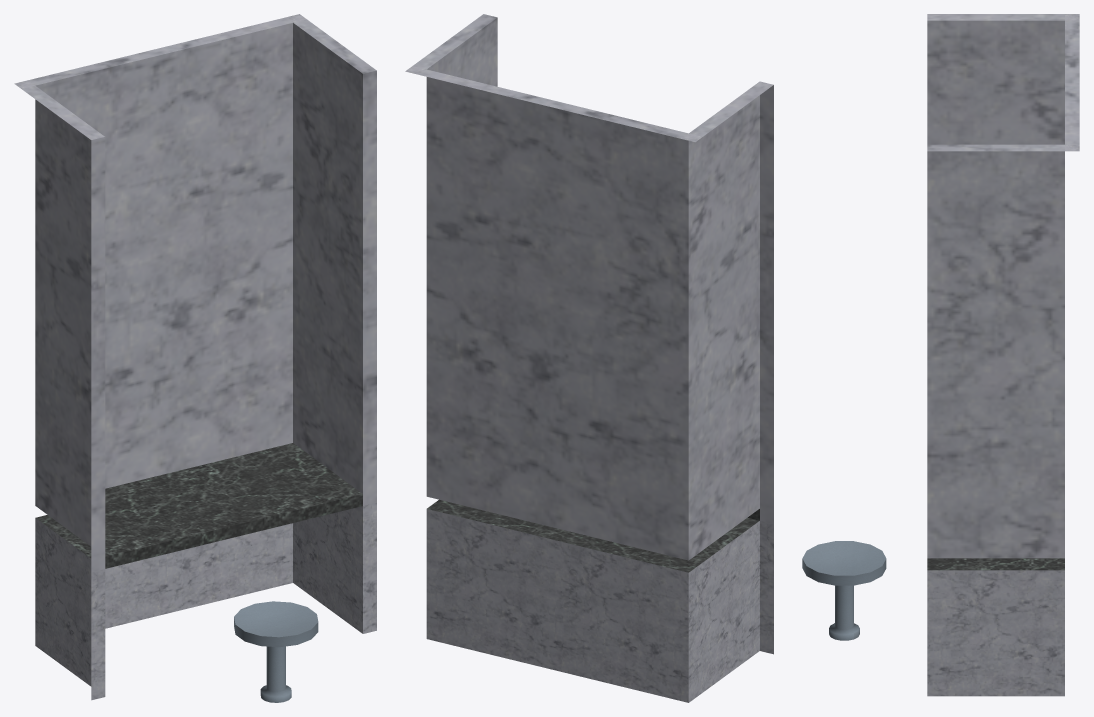
File: phone_booth1.fbx
3 renders of one model, left to right at view 1: azimuth 30°, elevation 25°; view 2: azimuth 150°, elevation 25°; view 3: azimuth 270°, elevation 25°, orthographic. The views are drawn at different scales.
Parts seen in each view (by area): view 1: phone_booth1; view 2: phone_booth1; view 3: phone_booth1.
Boxes of the visible parts, x1,y1,x2,y2 form: phone_booth1: [14, 14, 376, 702]; phone_booth1: [405, 14, 773, 702]; phone_booth1: [802, 14, 1079, 696].
Bounding box in the file's own units: 213 × 400 × 182.
Materials: 1 (1 with a texture image).
